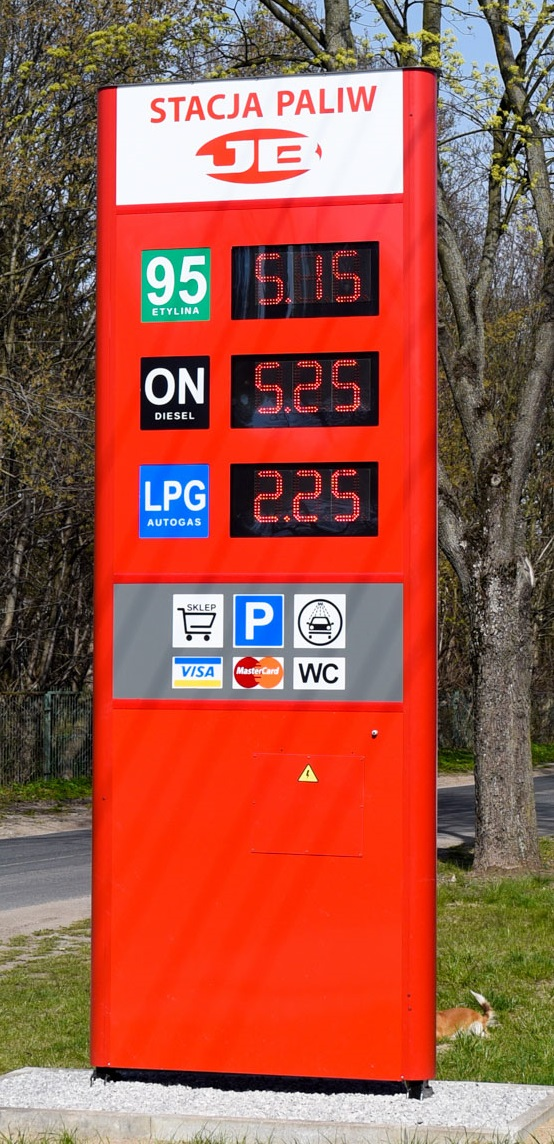PB95: (139, 244, 217, 327)
